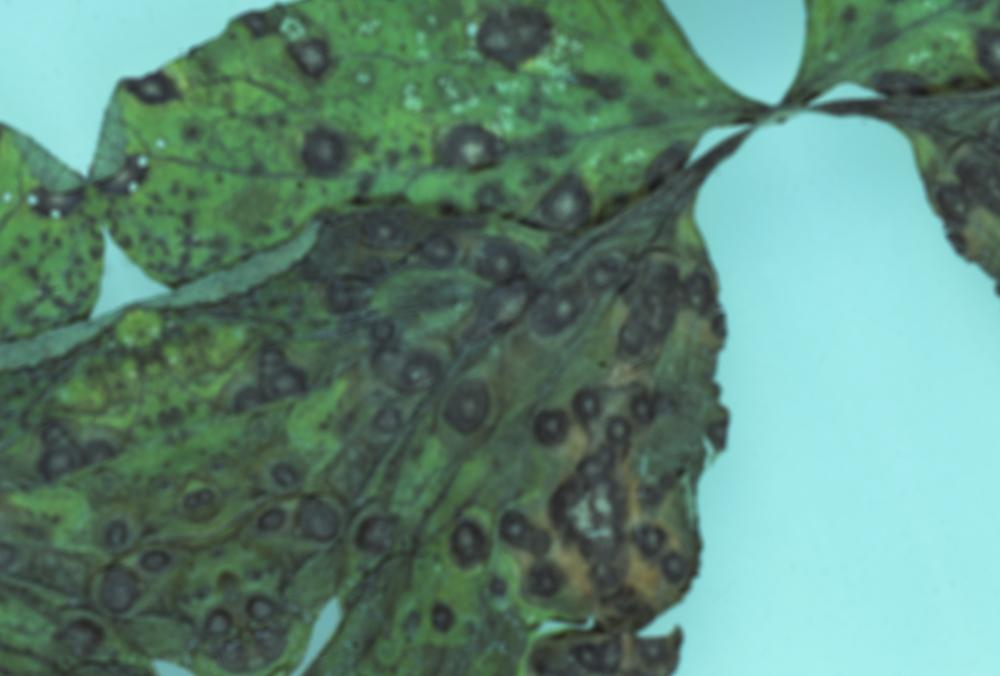Tomato Septoria leaf spot: (44, 0, 955, 676)
